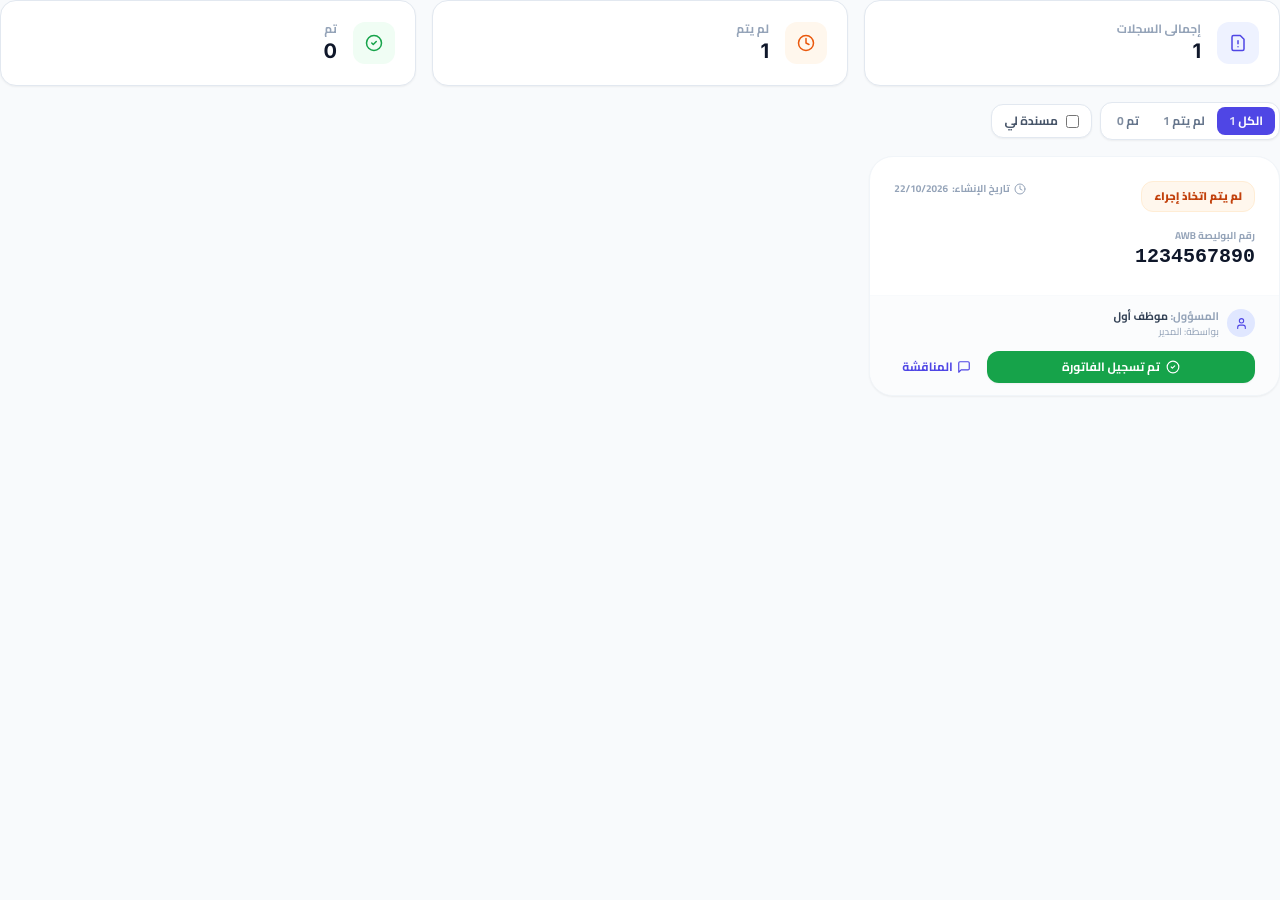
تم تسجيل الفاتورة — link dialog › searches real invoices starting from the record AWB and flags matches
Click the button "تم تسجيل الفاتورة". click: (1121, 367)
box: [987,351,1255,383]
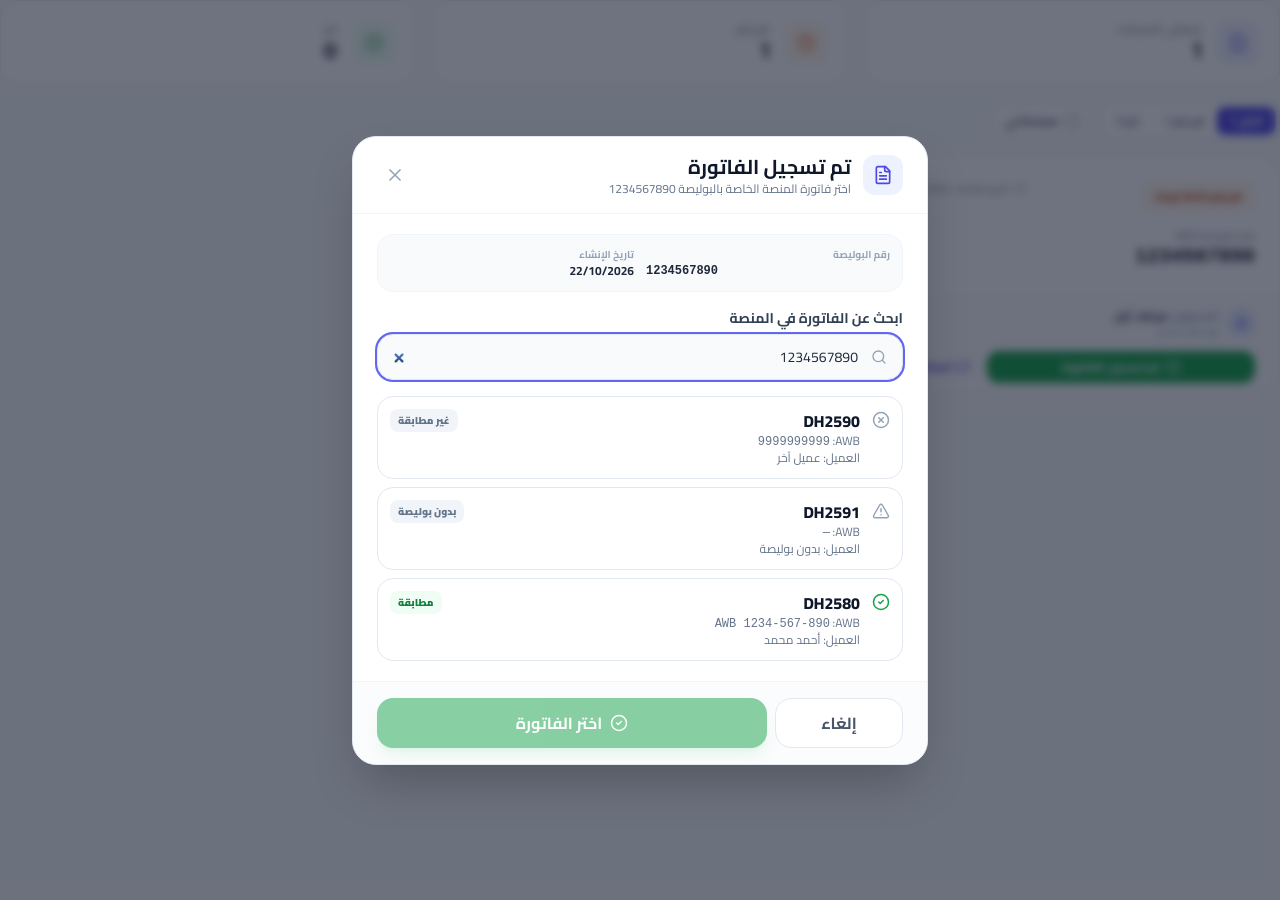
Now the text "DH2580" is shown, box [804,588,860,618]
Now the radio button labelled "DH2580 AWB: AWB 1234-567-890 العميل: أحمد محمد مطابقة" is shown, box [377,578,903,660]
Now the radio button labelled "DH2590 AWB: 9999999999 العميل: عميل آخر غير مطابقة" is shown, box [377,396,903,478]
